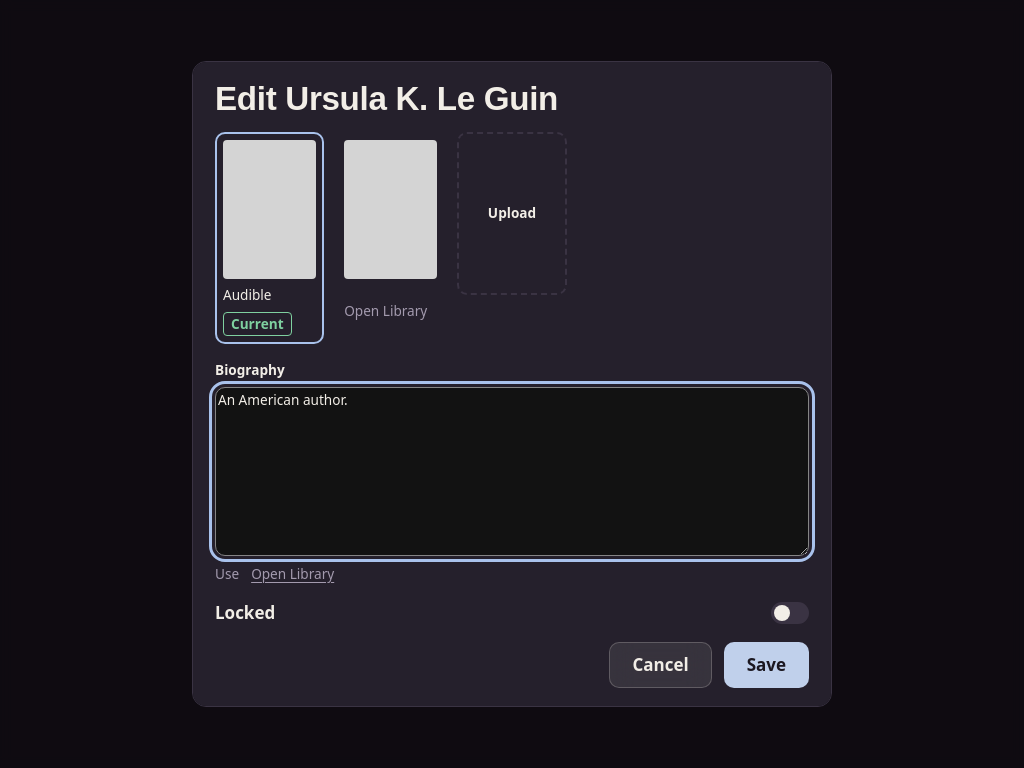
Scenario: PersonEditor › looks for photos again when the one chosen has gone
Click the radio button labelled "Open Library" at {"x": 391, "y": 238}, box [336,132,445,344]
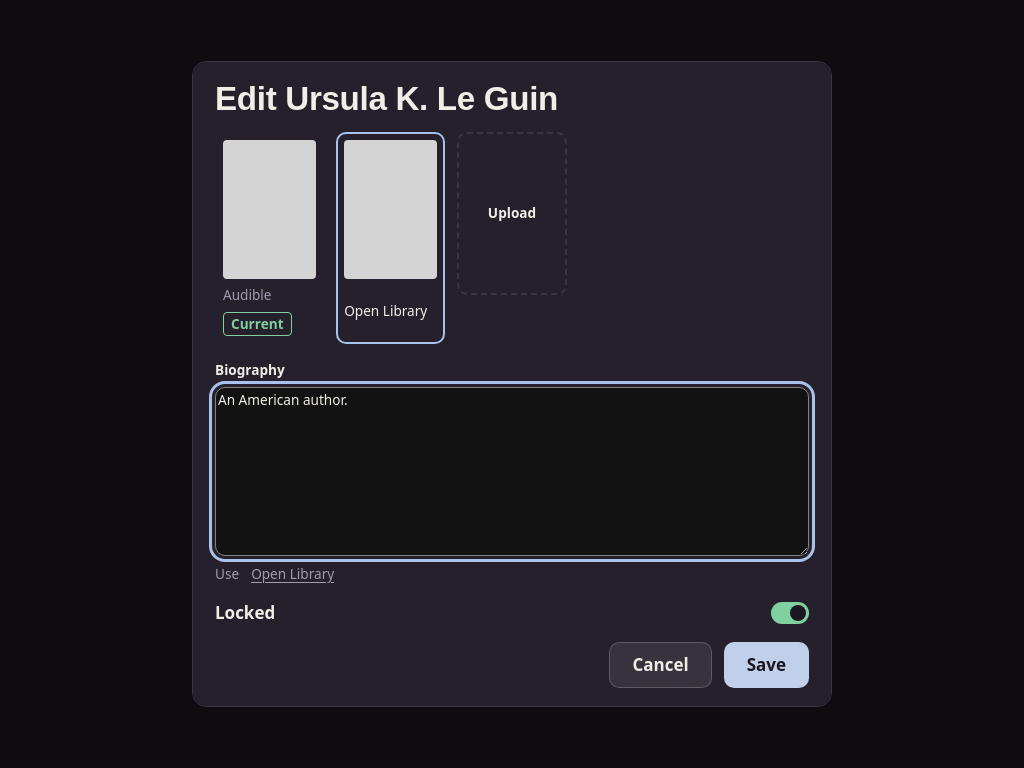
Click the button "Save" at {"x": 766, "y": 665}, box [724,642,809,688]
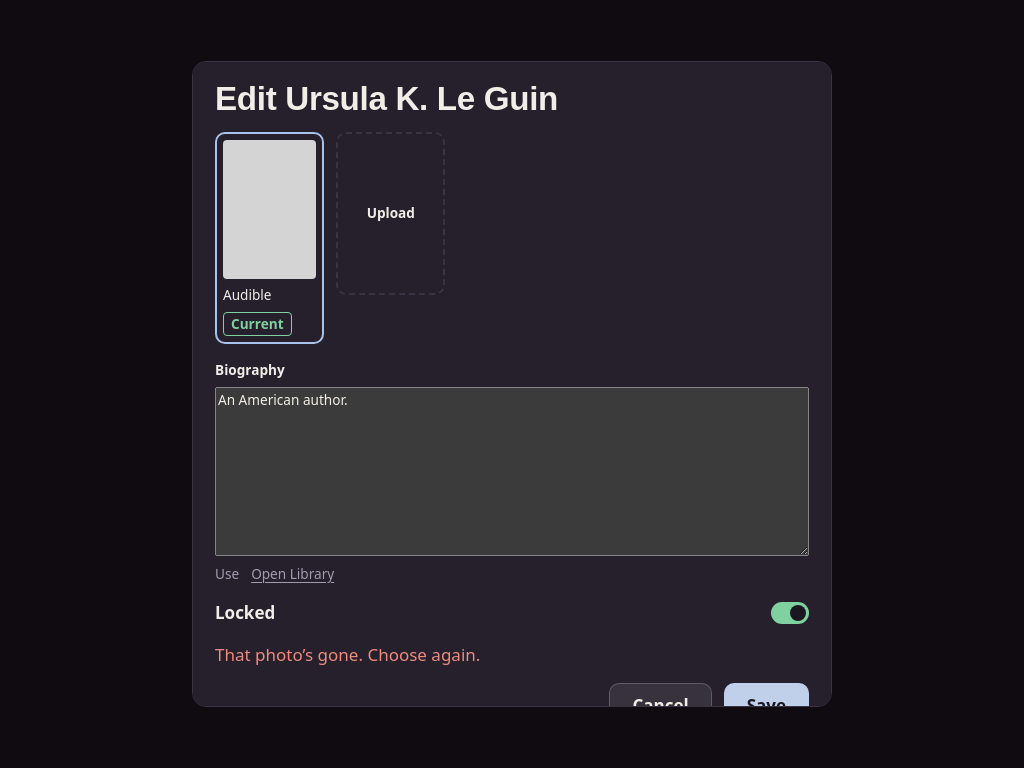
Check: the message reads "That photo’s gone. Choose again.", box [215,643,480,666]
